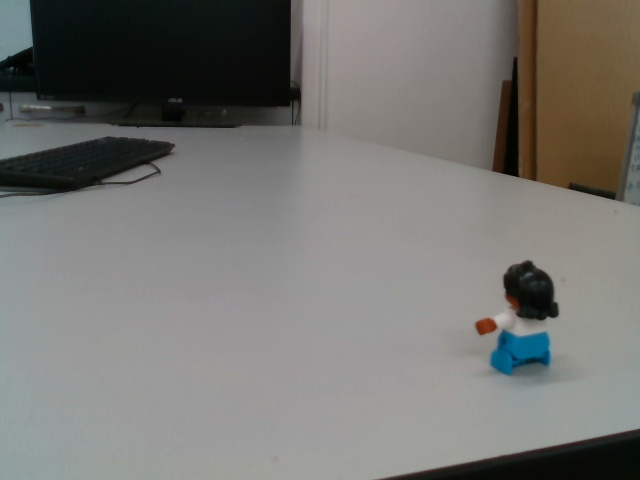people: (475, 258, 562, 379)
